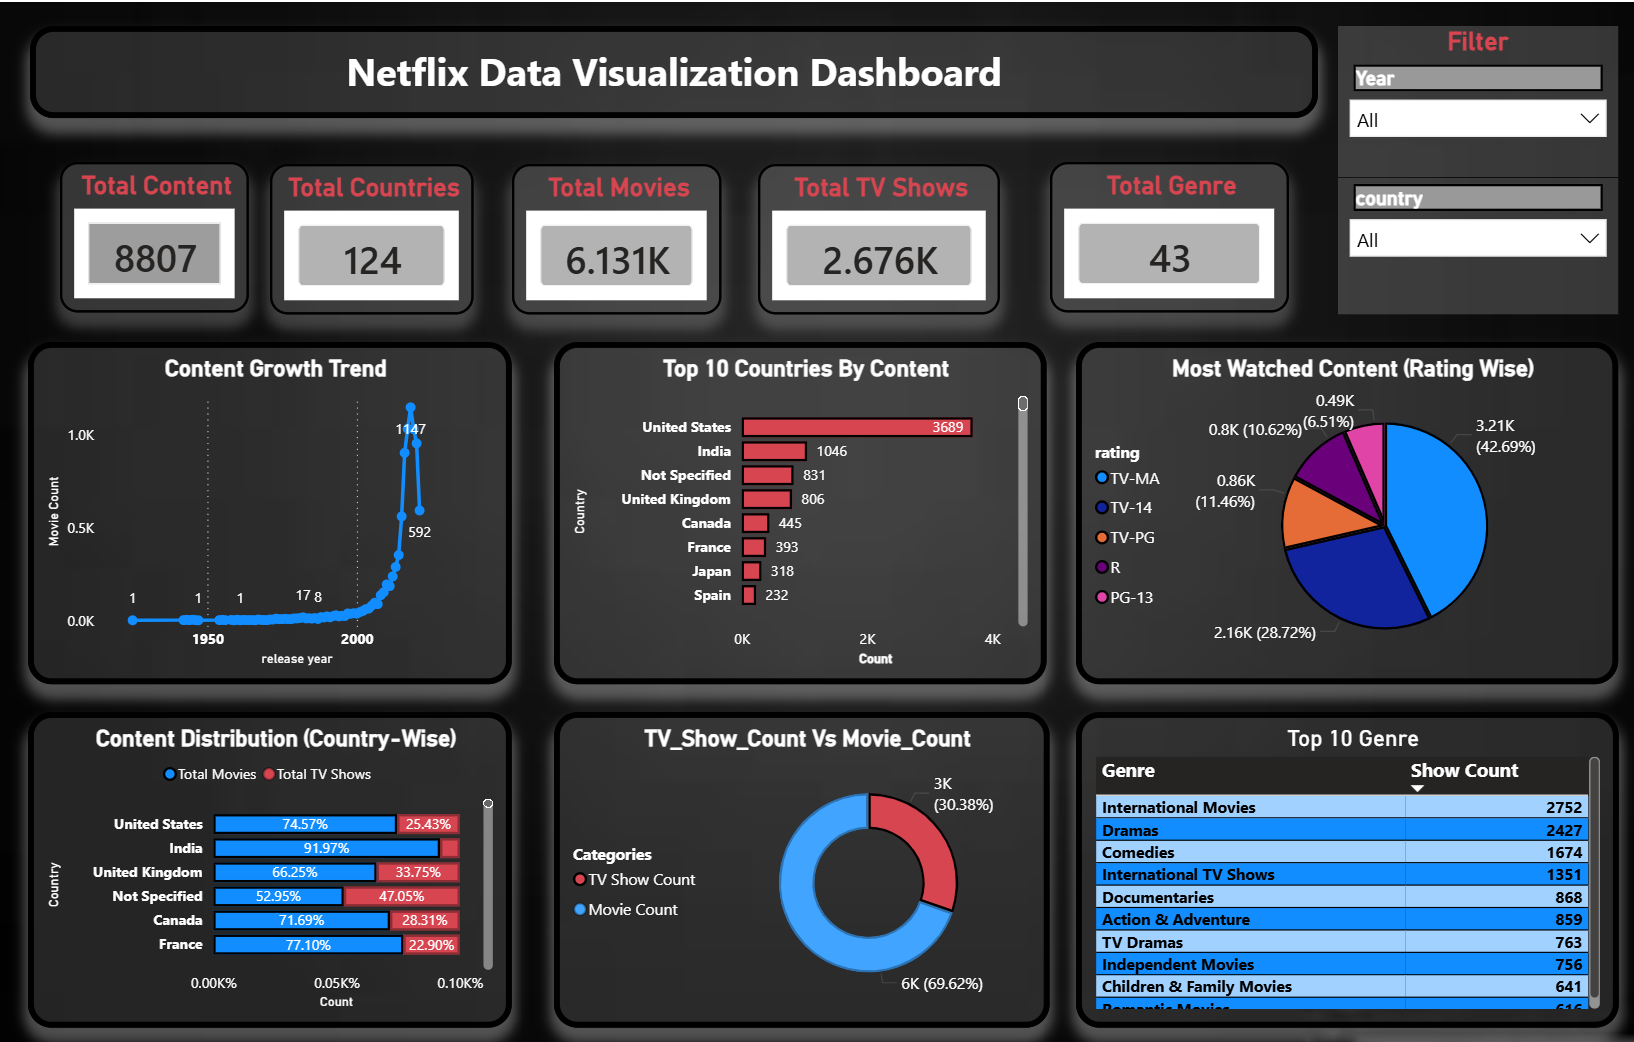

The page's visual inventory and layout, read from the dashboard file:
{"tool":"powerbi","page":{"name":"Page 1","canvas":[1400,900],"ordinal":0},"visuals":[{"type":"clusteredBarChart","title":"Top 10 Countries By Content","fields":{"Category":["Show_Country_Table.country"],"Y":["CountNonNull(Show_Country_Table.show_id)"]},"box":[472.5,287.5,417.5,290],"z":0},{"type":"cardVisual","title":"Total Content","fields":{"Data":["Netflix_data.Content_count"]},"box":[55,135,160,127.5],"z":1000},{"type":"cardVisual","title":"Total Movies","fields":{"Data":["Netflix_data.Movie_Count"]},"box":[437.5,137.5,177.5,127.5],"z":2000},{"type":"cardVisual","title":"Total TV Shows","fields":{"Data":["Netflix_data.TV_Show_Count"]},"box":[645,137.5,205,127.5],"z":3000},{"type":"cardVisual","title":"Total Countries","fields":{"Data":["Netflix_data.Total_Countries"]},"box":[232.5,137.5,172.5,127.5],"z":4000},{"type":"textbox","box":[28.8,20.3,1091.5,78],"z":5000},{"type":"hundredPercentStackedBarChart","title":"Content Distribution (Country-Wise)","fields":{"Y":["Sum(Country_Content_Summary.Movie Count)","Sum(Country_Content_Summary.TV Show Count)"],"Category":["Country_Content_Summary.country"]},"box":[27.5,602.5,410,267.5],"z":6000},{"type":"lineChart","title":"Content Growth Trend ","fields":{"Y":["CountNonNull(Netflix_data.title)"],"Category":["Netflix_data.release_year"]},"box":[27.5,287.5,410,290],"z":7000},{"type":"donutChart","title":"TV_Show_Count Vs Movie_Count","fields":{"Y":["Netflix_data.TV_Show_Count","Netflix_data.Movie_Count"]},"box":[472.5,602.5,420,267.5],"z":8000},{"type":"tableEx","title":"Top 10 Genre","fields":{"Values":["Show_Genre_Table.listed_in","Show_Genre_Table.show_id"]},"box":[915,602.5,460,267.5],"z":9000},{"type":"pieChart","title":"Most Watched Content (Rating Wise)","fields":{"Category":["Netflix_data.rating"],"Y":["CountNonNull(Netflix_data.title)"]},"box":[915.3,288.1,459.3,289.8],"z":10000},{"type":"slicer","title":"Filter","fields":{"Values":["Netflix_data.release_year"]},"box":[1137.3,20.3,237.3,128],"z":11000},{"type":"slicer","fields":{"Values":["Country_Content_Summary.country"]},"box":[1137.3,149.2,237.3,115.3],"z":12000},{"type":"cardVisual","title":"Total Genre","fields":{"Data":["Netflix_data.Total_Genres"]},"box":[892.5,135,202.5,127.5],"z":13000}]}

Visuals, with their boxes in screenshot pixels (x1, y1, x2, y2), scaled from the page's 1400x900 canvas onto the 1634x1042 screenshot:
"Top 10 Countries By Content" clusteredBarChart: [x1=551, y1=333, x2=1039, y2=669]
"Total Content" cardVisual: [x1=64, y1=156, x2=251, y2=304]
"Total Movies" cardVisual: [x1=511, y1=159, x2=718, y2=307]
"Total TV Shows" cardVisual: [x1=753, y1=159, x2=992, y2=307]
"Total Countries" cardVisual: [x1=271, y1=159, x2=473, y2=307]
textbox: [x1=34, y1=24, x2=1308, y2=114]
"Content Distribution (Country-Wise)" hundredPercentStackedBarChart: [x1=32, y1=698, x2=511, y2=1007]
"Content Growth Trend " lineChart: [x1=32, y1=333, x2=511, y2=669]
"TV_Show_Count Vs Movie_Count" donutChart: [x1=551, y1=698, x2=1042, y2=1007]
"Top 10 Genre" tableEx: [x1=1068, y1=698, x2=1605, y2=1007]
"Most Watched Content (Rating Wise)" pieChart: [x1=1068, y1=334, x2=1604, y2=669]
"Filter" slicer: [x1=1327, y1=24, x2=1604, y2=172]
slicer - Country_Content_Summary.country: [x1=1327, y1=173, x2=1604, y2=306]
"Total Genre" cardVisual: [x1=1042, y1=156, x2=1278, y2=304]
